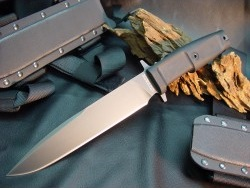knife: (4, 74, 156, 178)
